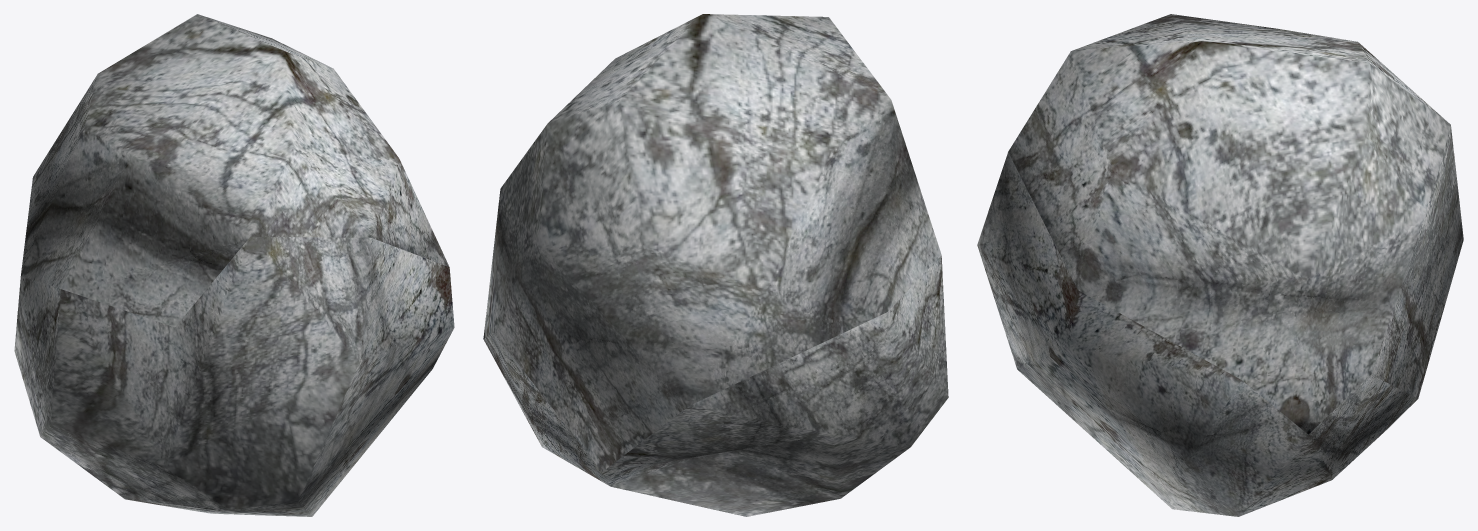
Rendered from rock_volume_1.obj.
3 views of the same model, side by side, from view 1: azimuth 30°, elevation 25°; view 2: azimuth 150°, elevation 25°; view 3: azimuth 270°, elevation 25° (orthographic). The views are drawn at different scales.
Parts seen in each view (by area): view 1: Icosphere.007; view 2: Icosphere.007; view 3: Icosphere.007.
Part boxes in pixels (x1,y1,x2,y2): Icosphere.007: (14, 14, 454, 516); Icosphere.007: (483, 14, 948, 516); Icosphere.007: (977, 14, 1463, 516).
Bounding box in the file's own units: 5.92 × 6.59 × 6.29.
